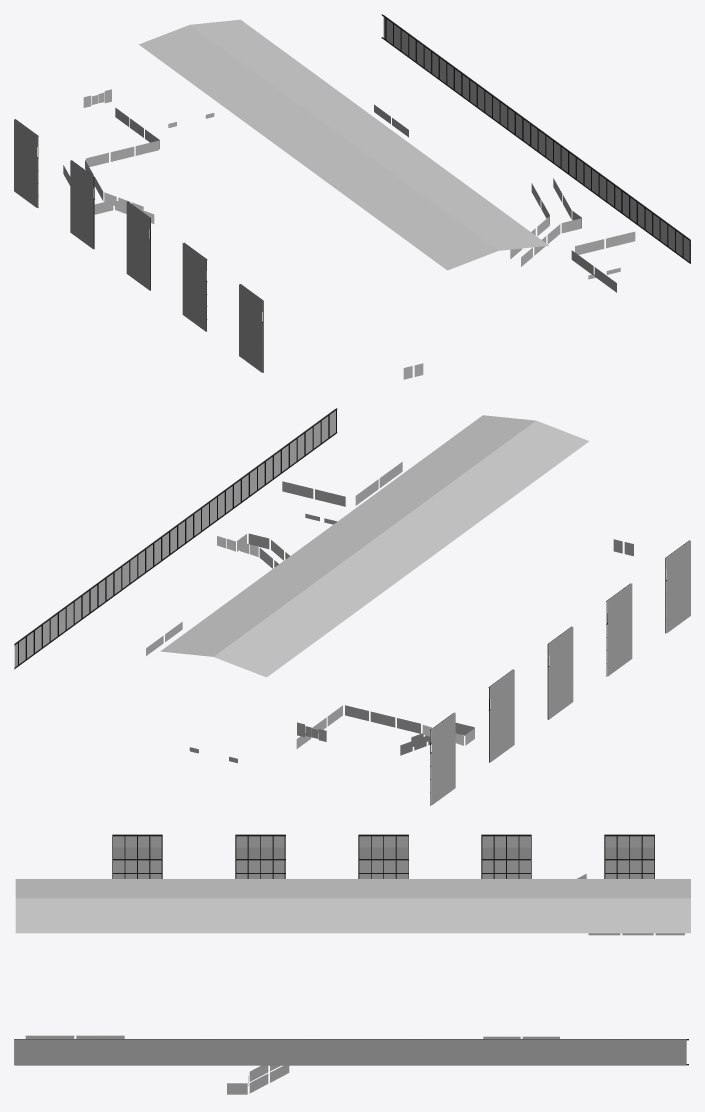
The model's file is Scene_Garage03_Glass01.fbx.
The picture shows the model from 3 angles, top to bottom: view 1: azimuth 30°, elevation 25°; view 2: azimuth 150°, elevation 25°; view 3: azimuth 270°, elevation 25°; orthographic projection. The views are drawn at different scales.
Visible parts, largest first — view 1: Scene_Garage03_Glass01D, Scene_Garage03_Glass01B, Scene_Garage03_Glass01A, Scene_Garage03_Glass01C, wd_4ge; view 2: Scene_Garage03_Glass01D, Scene_Garage03_Glass01B, Scene_Garage03_Glass01A, Scene_Garage03_Glass01C, wd_4ge; view 3: Scene_Garage03_Glass01D, Scene_Garage03_Glass01B, Scene_Garage03_Glass01A, wd_4ge, Scene_Garage03_Glass01C.
Part boxes in pixels (box(x1,y1,x2,y2)): Scene_Garage03_Glass01D: box(139, 19, 548, 270); Scene_Garage03_Glass01B: box(14, 15, 689, 372); Scene_Garage03_Glass01A: box(15, 19, 690, 372); Scene_Garage03_Glass01C: box(63, 89, 635, 379); wd_4ge: box(15, 14, 690, 372); Scene_Garage03_Glass01D: box(160, 415, 589, 677); Scene_Garage03_Glass01B: box(14, 409, 690, 805); Scene_Garage03_Glass01A: box(19, 410, 689, 804); Scene_Garage03_Glass01C: box(146, 462, 633, 763); wd_4ge: box(14, 408, 689, 805); Scene_Garage03_Glass01D: box(15, 879, 690, 933); Scene_Garage03_Glass01B: box(15, 834, 686, 1065); Scene_Garage03_Glass01A: box(14, 836, 654, 1065); wd_4ge: box(14, 835, 688, 1065); Scene_Garage03_Glass01C: box(25, 874, 684, 1094).
Size of the model in its own units: 4005 by 1152 by 5589.
